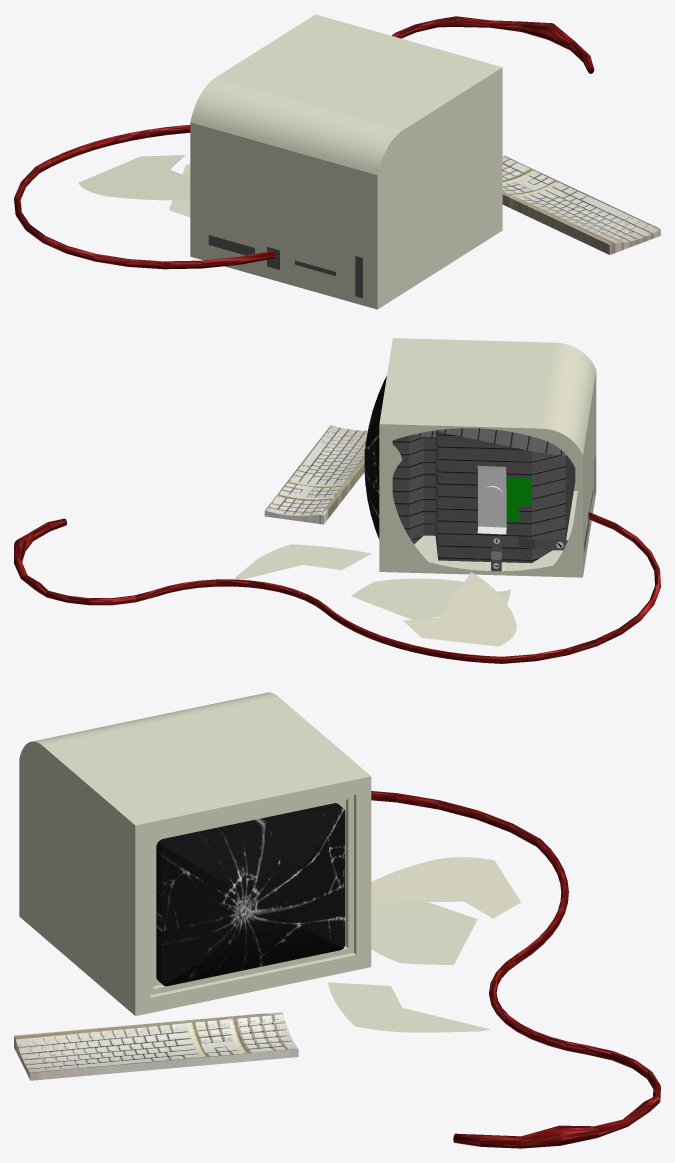
File: computer2.gltf
3 views of the same model, one above another, from view 1: azimuth 30°, elevation 25°; view 2: azimuth 150°, elevation 25°; view 3: azimuth 270°, elevation 25° (orthographic). The views are drawn at different scales.
Parts seen in each view (by area): view 1: group_6, group_0, group_9, group_2, group_6.004; view 2: group_6, group_5, group_9, group_0, group_2, group_1, group_3, group_8, group_7.001, group_5.001, group_7.002; view 3: group_6, group_8, group_0, group_9, group_2, group_1, group_6.006, group_3, group_6.002.
Boxes of the visible parts, bbox=[...] form: group_6: bbox=[190, 14, 502, 309]; group_0: bbox=[502, 155, 660, 254]; group_9: bbox=[14, 16, 594, 269]; group_2: bbox=[78, 155, 190, 200]; group_6.004: bbox=[208, 235, 254, 255]; group_6: bbox=[379, 338, 596, 577]; group_5: bbox=[392, 428, 575, 563]; group_9: bbox=[14, 512, 660, 663]; group_0: bbox=[264, 425, 367, 524]; group_2: bbox=[403, 572, 516, 646]; group_1: bbox=[351, 578, 510, 619]; group_3: bbox=[234, 544, 371, 579]; group_8: bbox=[364, 376, 386, 539]; group_7.001: bbox=[477, 465, 506, 534]; group_5.001: bbox=[491, 535, 567, 571]; group_7.002: bbox=[506, 477, 531, 521]; group_6: bbox=[19, 692, 371, 1015]; group_8: bbox=[156, 803, 345, 986]; group_0: bbox=[14, 1012, 298, 1080]; group_9: bbox=[371, 791, 660, 1148]; group_2: bbox=[371, 857, 520, 918]; group_1: bbox=[371, 902, 477, 964]; group_6.006: bbox=[150, 795, 356, 997]; group_3: bbox=[327, 982, 490, 1032]; group_6.002: bbox=[153, 799, 348, 988].
Bounding box in the file's own units: 1.9 × 0.4877 × 1.5.
Materials: 9 (4 with a texture image).
